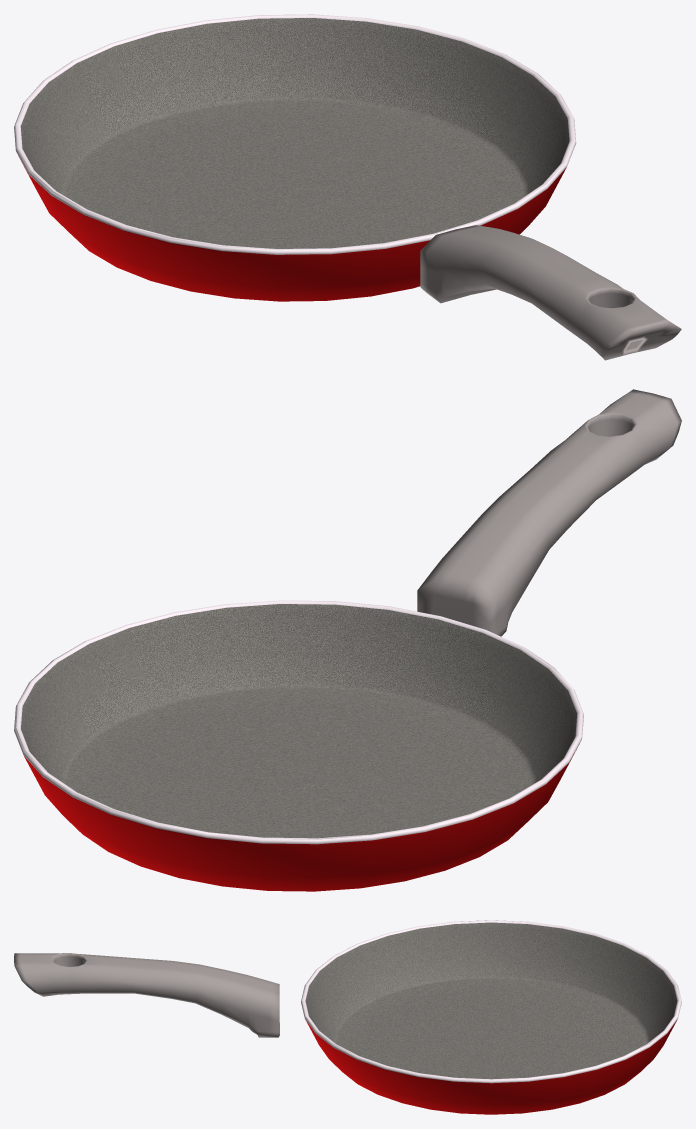
Rendered from tava.glb.
3 views of the same model, one above another, from view 1: azimuth 30°, elevation 25°; view 2: azimuth 150°, elevation 25°; view 3: azimuth 270°, elevation 25° (orthographic). The views are drawn at different scales.
Visible parts, largest first — view 1: Cooking pan.001; view 2: Cooking pan.001; view 3: Cooking pan.001.
Part boxes in pixels (box(x1,y1,x2,y2)): Cooking pan.001: box(14, 14, 681, 360); Cooking pan.001: box(14, 389, 681, 891); Cooking pan.001: box(14, 920, 681, 1114).
Bounding box in the file's own units: 0.1904 × 0.0498 × 0.3338.
Materials: 5 (3 with a texture image).
